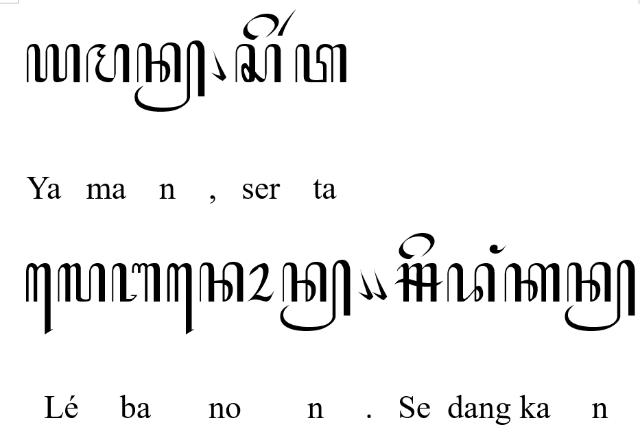-n: (280, 258, 352, 332), (134, 40, 206, 112), (564, 260, 636, 332)
S: (395, 262, 443, 302)
_r1: (276, 9, 296, 37)
b: (110, 261, 162, 302)
d: (446, 262, 496, 304)
e: (398, 232, 436, 260), (242, 14, 280, 40)
e1: (25, 262, 53, 336), (166, 262, 194, 336)
k: (504, 262, 562, 304)
kom: (356, 267, 374, 301), (370, 267, 388, 301), (210, 47, 226, 81)
l: (56, 263, 106, 303)
m: (84, 42, 130, 84)
n: (198, 262, 245, 304)
ng: (489, 243, 507, 255)
o: (246, 264, 274, 302)
s: (234, 43, 282, 83)
t: (294, 42, 348, 84)
y: (26, 43, 80, 83)
